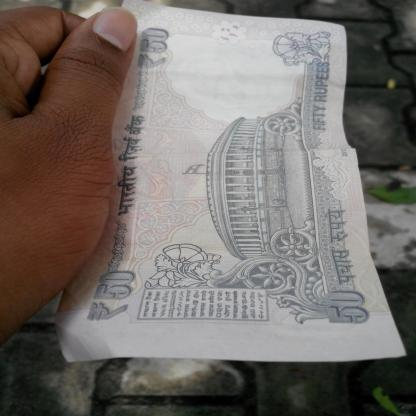Old50Back: (57, 0, 406, 365)
